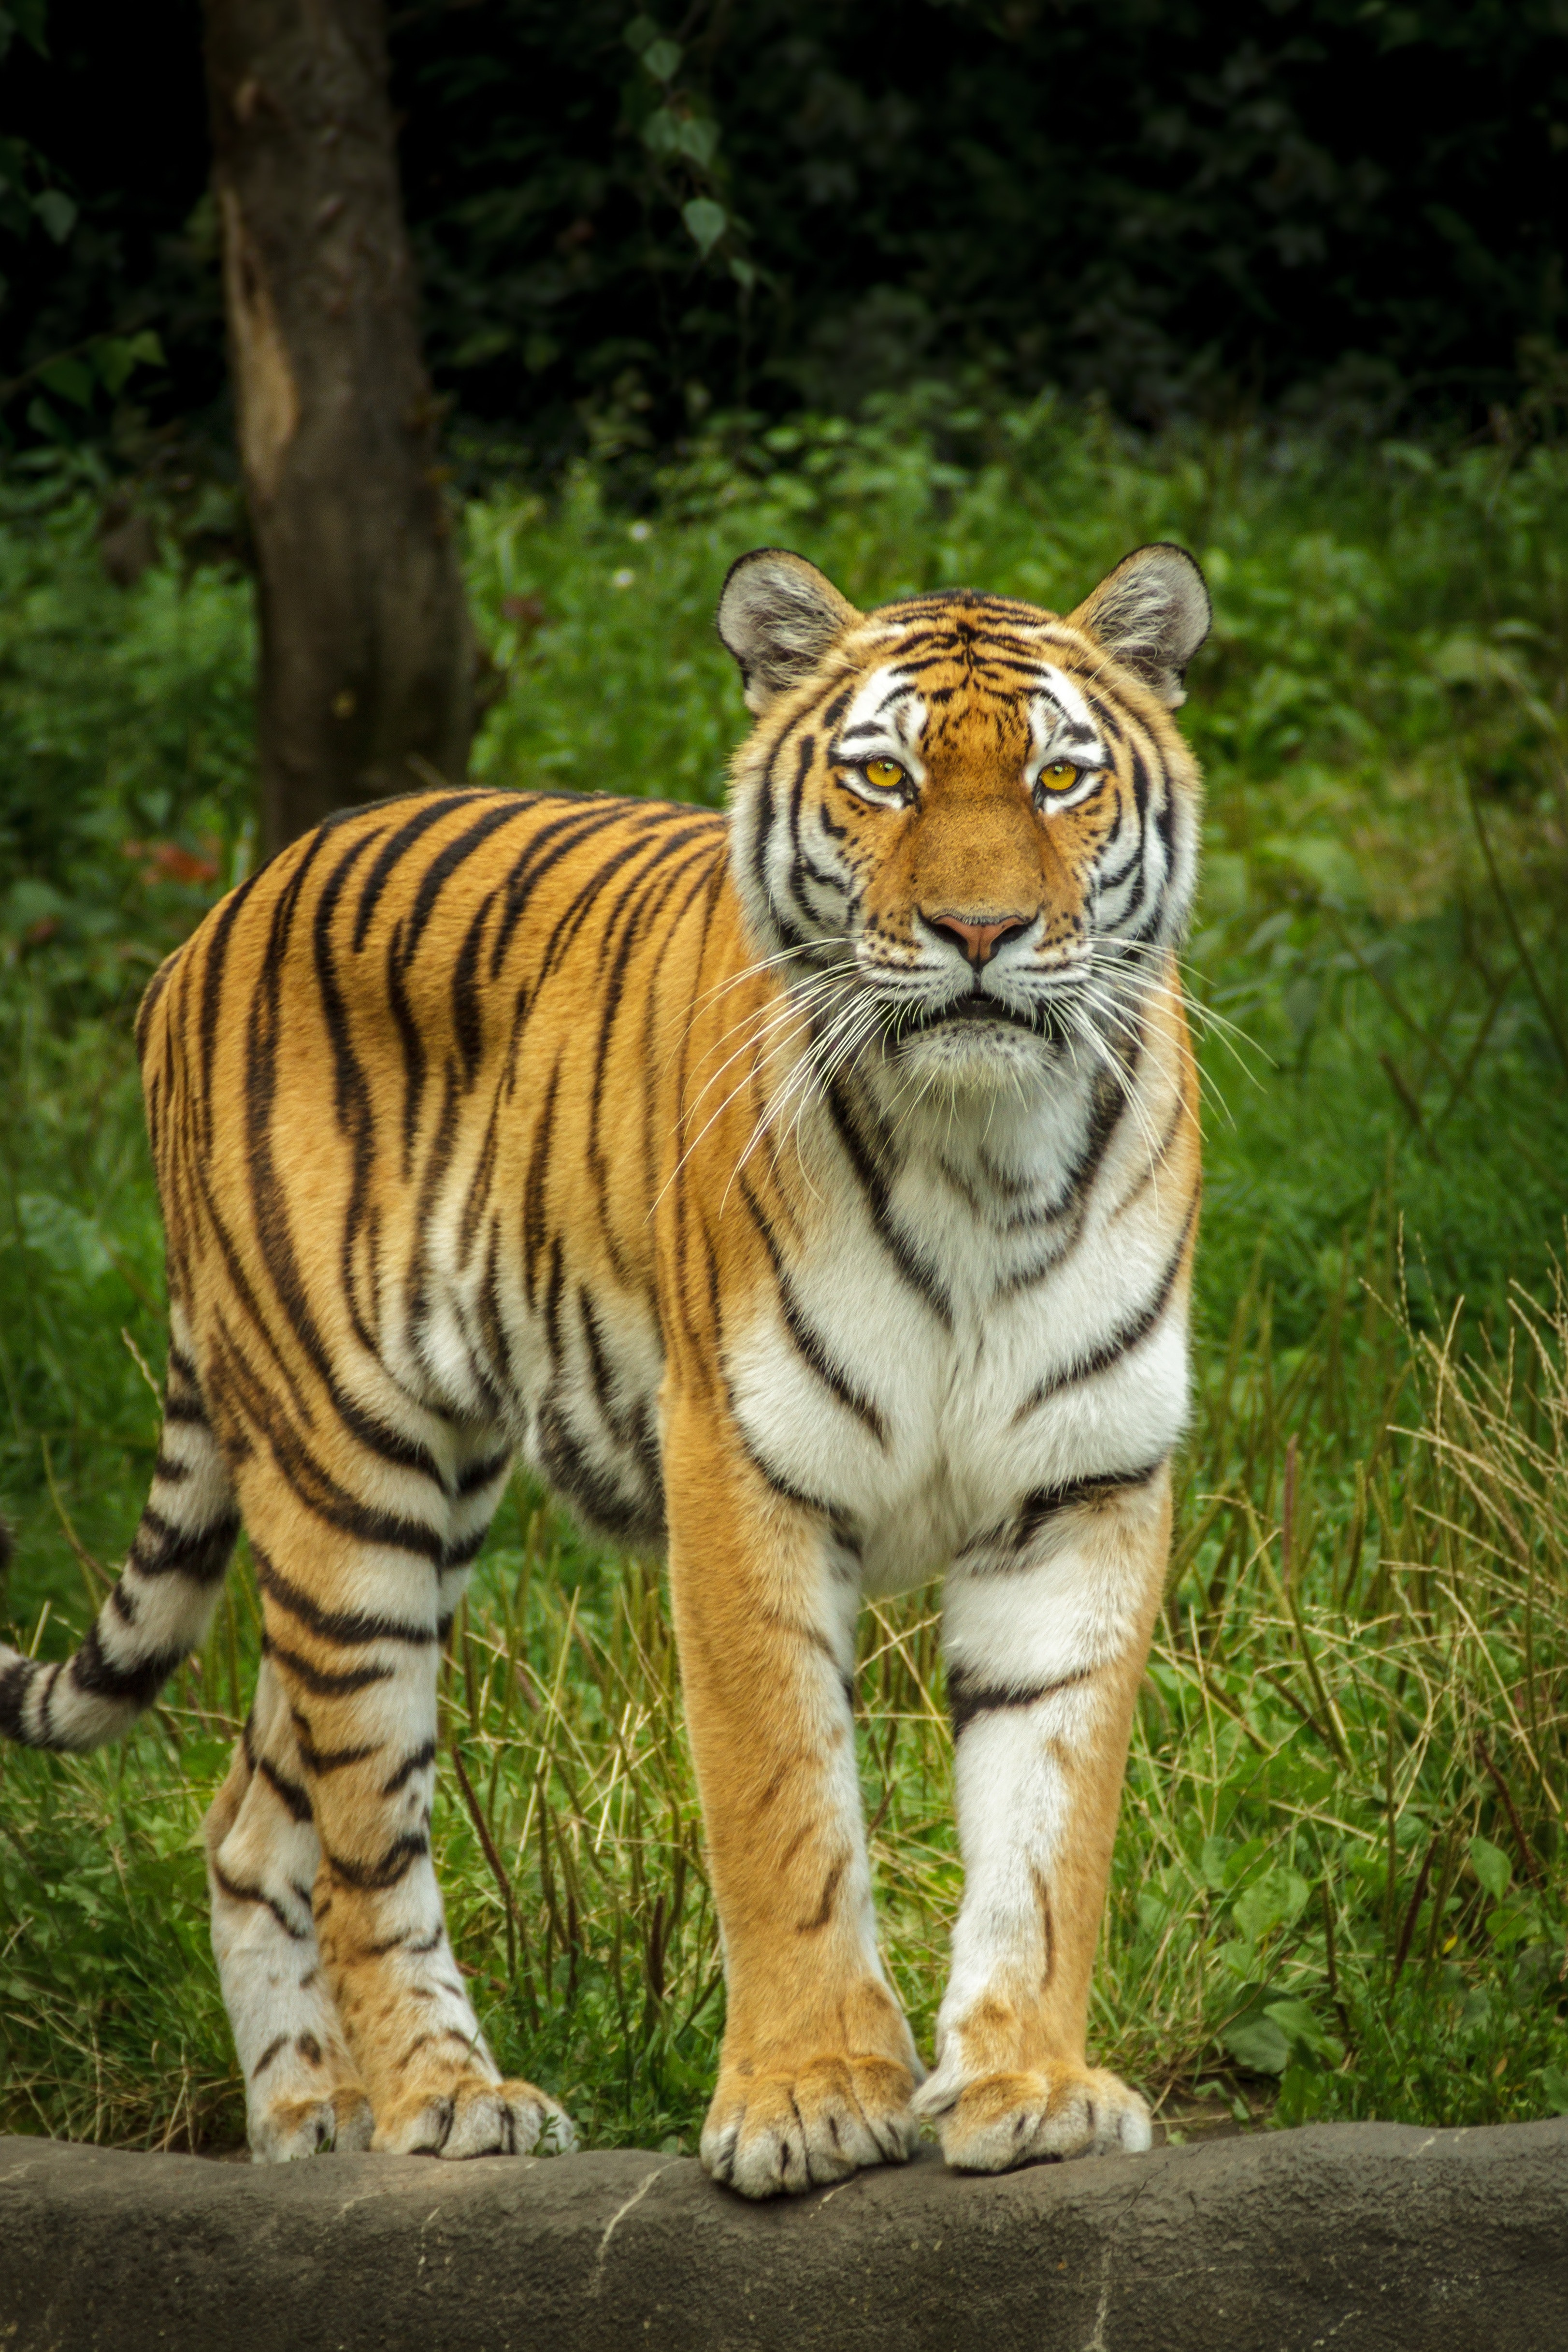tiger: (66, 500, 1319, 2200)
